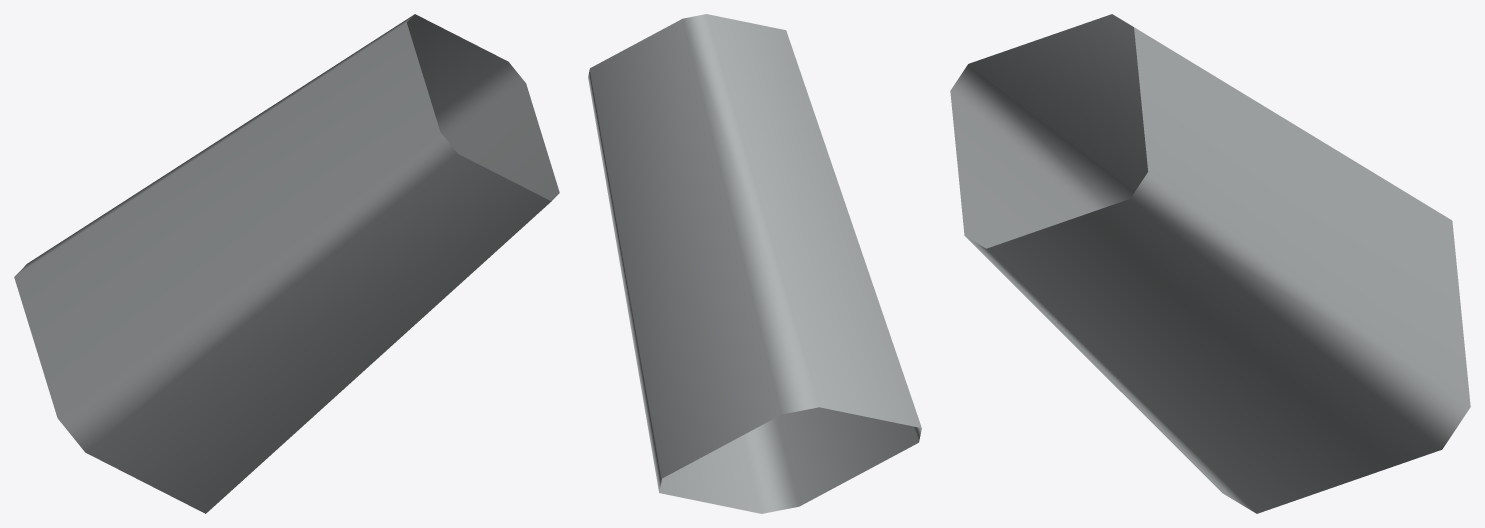
File: Drone_002_R_Finger_002.fbx
The picture shows the model from 3 angles, left to right: view 1: azimuth 30°, elevation 25°; view 2: azimuth 150°, elevation 25°; view 3: azimuth 270°, elevation 25°; orthographic projection. The views are drawn at different scales.
Visible parts, largest first — view 1: Drone_002_R_Finger_002; view 2: Drone_002_R_Finger_002; view 3: Drone_002_R_Finger_002.
Part boxes in pixels (x1=…): Drone_002_R_Finger_002: x1=14, y1=14, x2=559, y2=513; Drone_002_R_Finger_002: x1=588, y1=14, x2=921, y2=513; Drone_002_R_Finger_002: x1=950, y1=14, x2=1470, y2=513.
Size of the model in its own units: 3.51 by 3.22 by 3.89.
